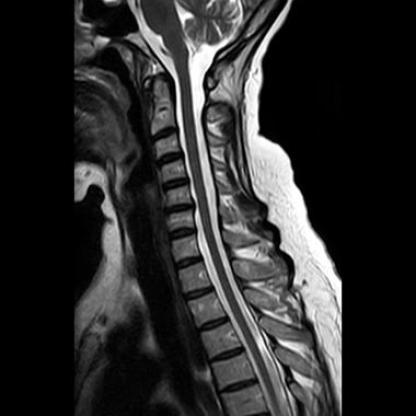Annular Disc Relaxationrotation: (160, 177, 190, 193)
Disc Bulgerotation: (161, 202, 194, 216)
Osteophytesrotation: (161, 202, 194, 216)
